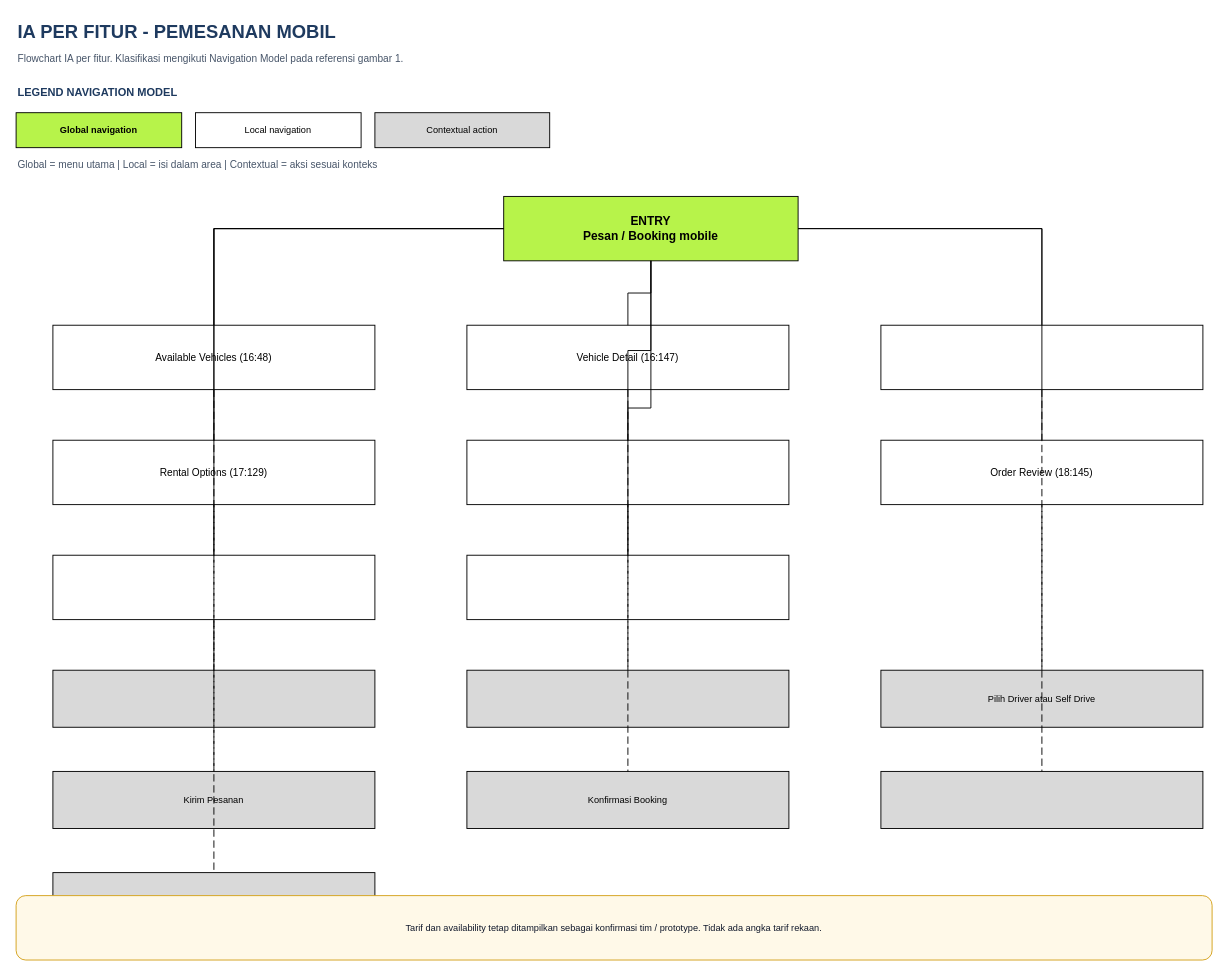
The diagram is 1228 pixels wide and 976 high, and some of its shapes have lost their labels. The box of each missing label's shape, as (x1, y1, x2, y2) in pixels:
Booker Form (17:177): (466, 439, 789, 505)
Booking Status (18:243): (466, 554, 789, 620)
Date & Time (17:70): (880, 324, 1203, 390)
Phone Verification (18:190): (52, 554, 375, 620)
Pilih kendaraan: (52, 669, 375, 727)
Pilih tanggal dan waktu: (466, 669, 789, 727)
Verifikasi OTP: (880, 770, 1203, 828)
